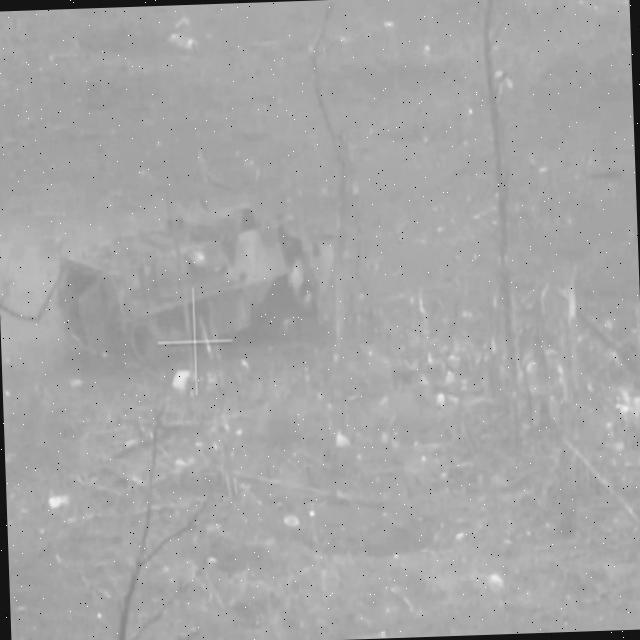Destroyed: (56, 191, 336, 361)
